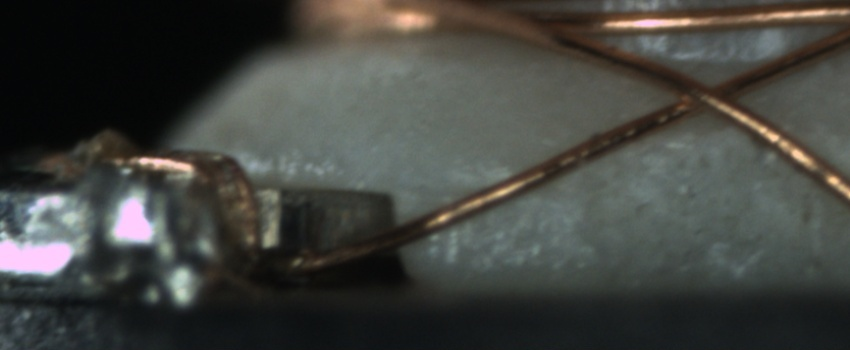CL: (660, 67, 756, 124)
TE: (98, 143, 274, 267)
